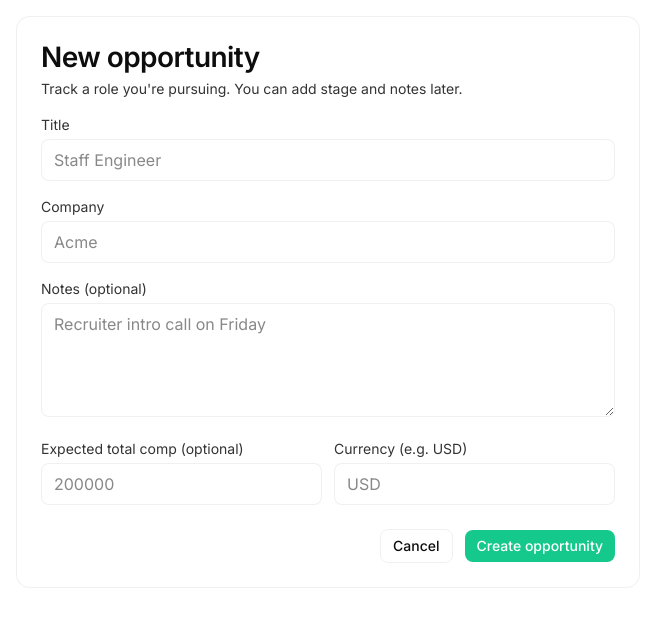
it: OpportunityCreate › shows the error returned by the mutation when the API rejects
Type "x" into the field with test id "opportunity-create-title" at (328, 160), box [41,139,615,181]
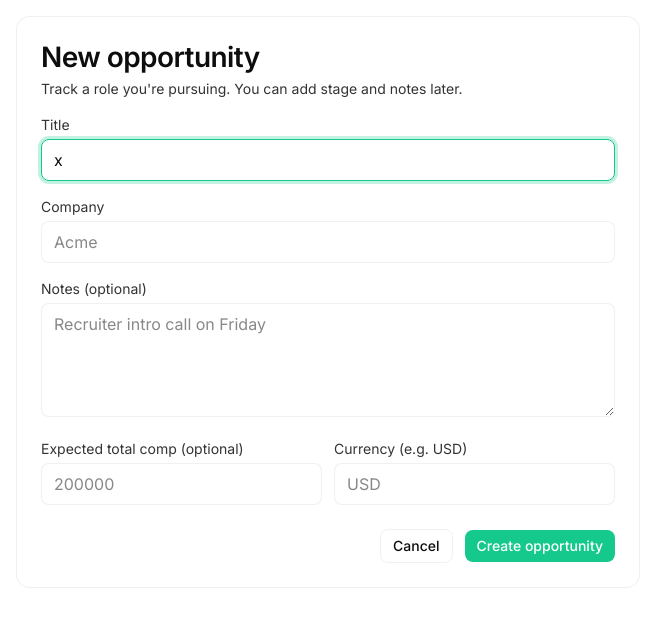
Type "y" into the field with test id "opportunity-create-company" at (328, 242), box [41,221,615,263]
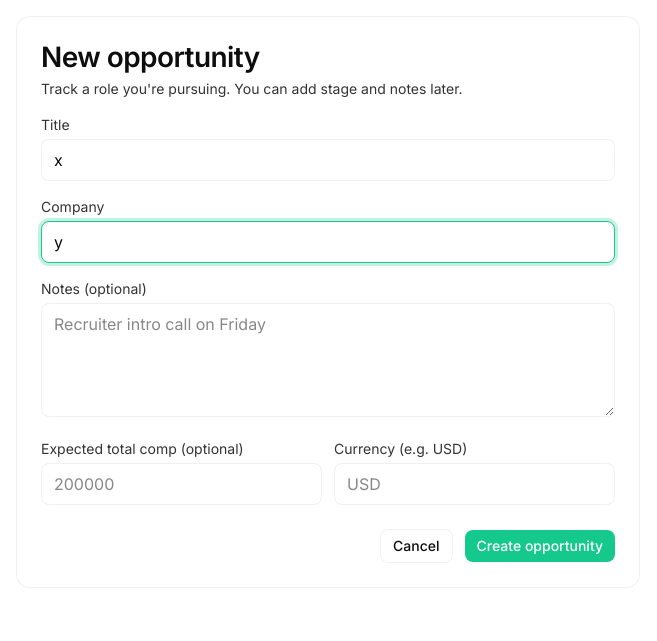
Submit the form with test id "opportunity-create-form"
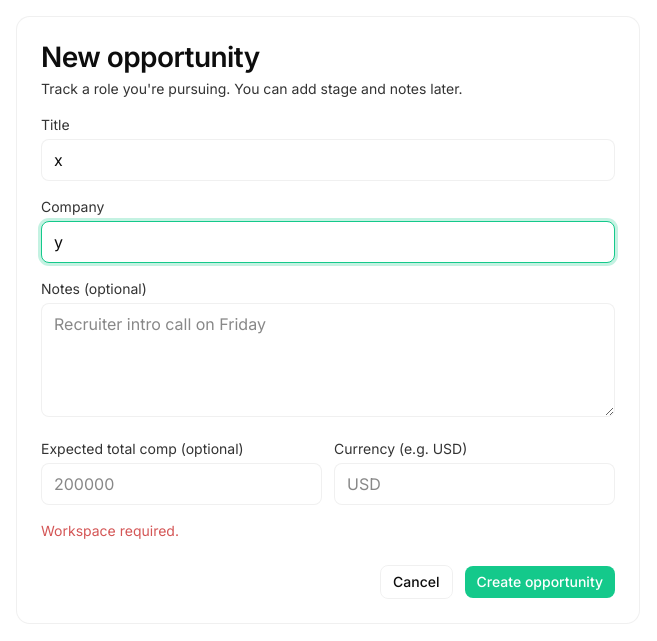
Now the message with test id "opportunity-create-error" shows "Workspace required", box [41,522,179,539]
